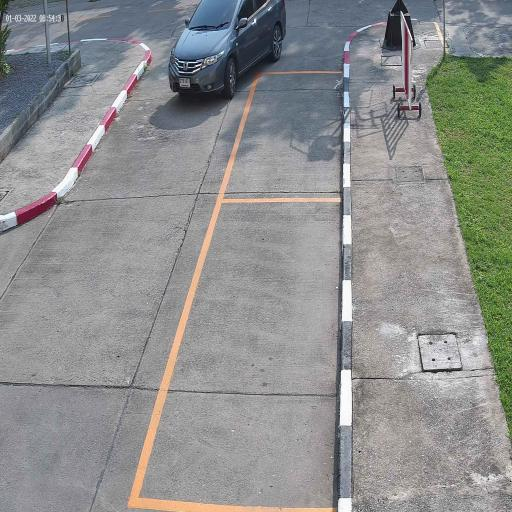car: (169, 0, 285, 98)
